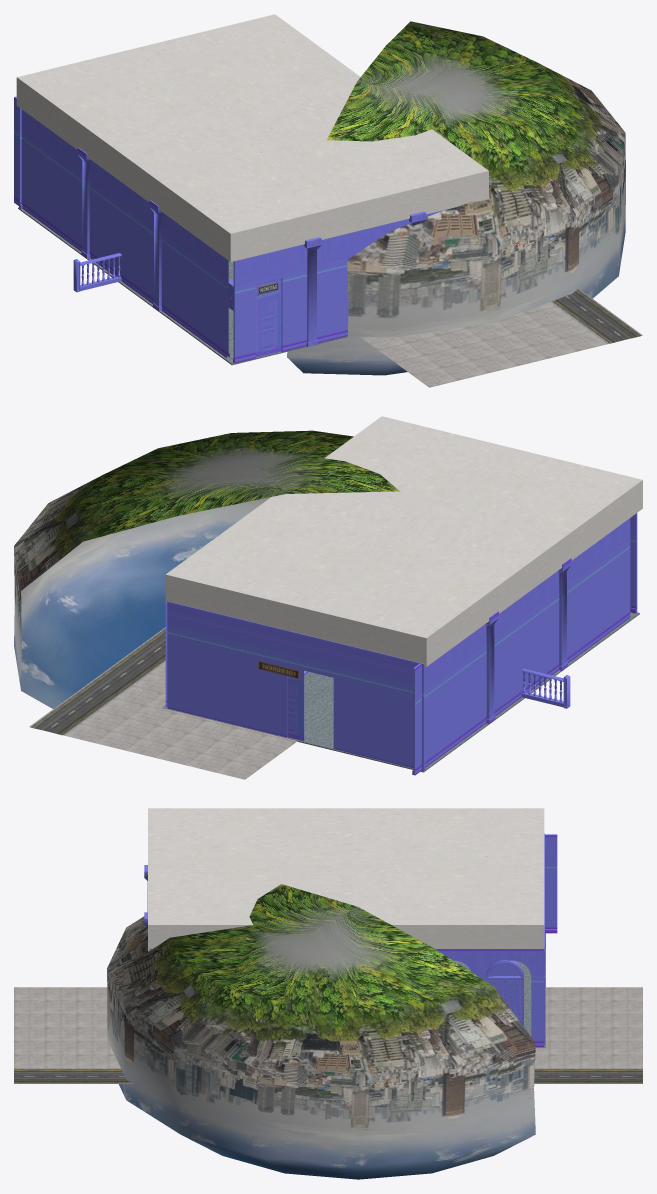
Rendered from Court.glb.
3 renders of one model, top to bottom at view 1: azimuth 30°, elevation 25°; view 2: azimuth 150°, elevation 25°; view 3: azimuth 270°, elevation 25°, orthographic. The views are drawn at different scales.
Visible parts, largest first — view 1: Court; view 2: Court; view 3: Court.
Part boxes in pixels (box(x1,y1,x2,y2)): Court: box(14, 14, 642, 387); Court: box(14, 416, 642, 779); Court: box(14, 808, 642, 1179).
Bounding box in the file's own units: 179 × 76.88 × 204.
Materials: 24 (23 with a texture image).
